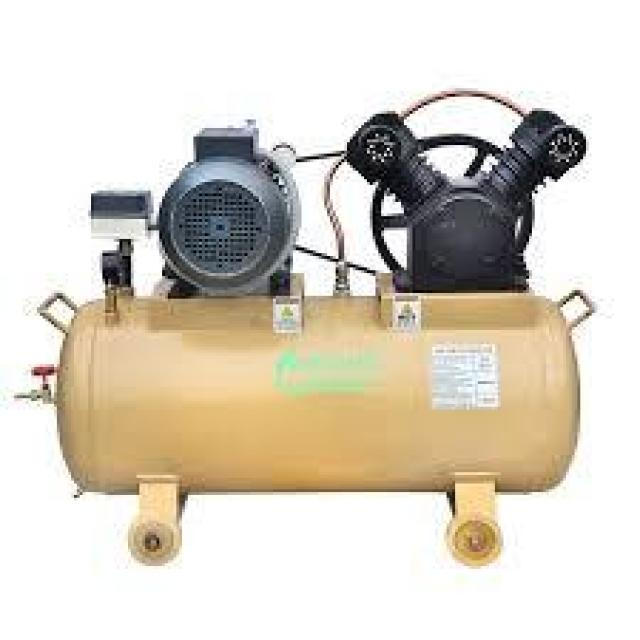compressor: (34, 78, 602, 631)
